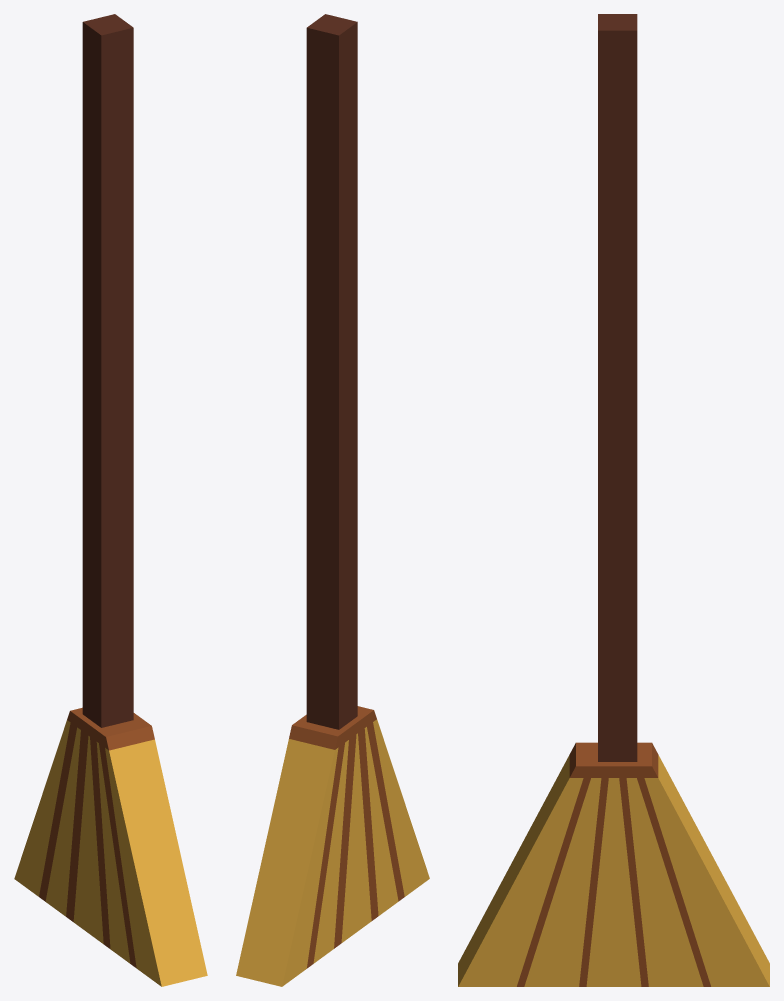
Rendered from saozhou.fbx.
3 renders of one model, left to right at view 1: azimuth 30°, elevation 25°; view 2: azimuth 150°, elevation 25°; view 3: azimuth 270°, elevation 25°, orthographic. The views are drawn at different scales.
Parts seen in each view (by area): view 1: door1:polySurface11; view 2: door1:polySurface11; view 3: door1:polySurface11.
Boxes of the visible parts, bbox=[...] form: door1:polySurface11: bbox=[14, 14, 207, 986]; door1:polySurface11: bbox=[236, 14, 429, 986]; door1:polySurface11: bbox=[458, 14, 769, 986].
Bounding box in the file's own units: 4.49 × 84.19 × 24.98.
